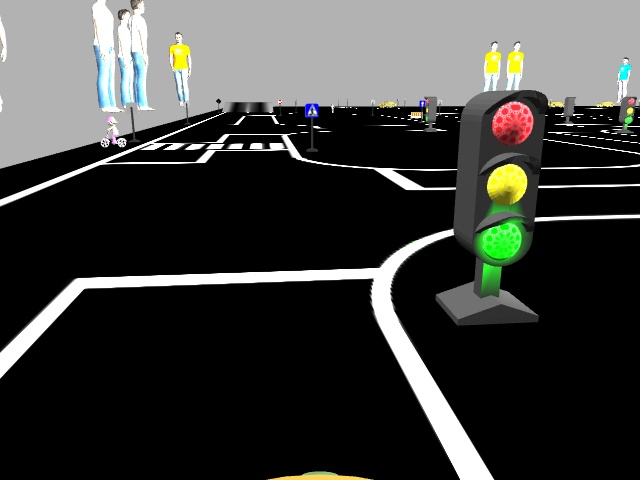Crosswalk: (305, 103, 318, 117)
Pedestrian: (100, 116, 125, 147)
TrafficLight: (451, 89, 544, 265)
